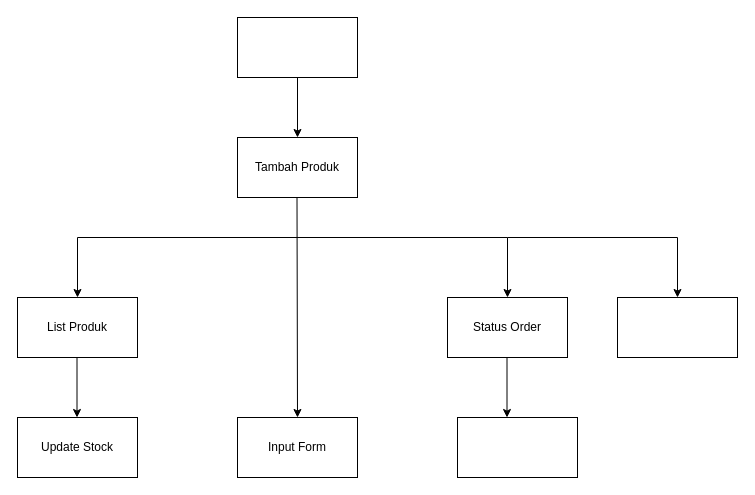
Some shapes in this 755 by 495 pixel diagram are drawn without their labels. The box of each missing label's shape, as (x1, y1, x2, y2) in pixels:
Detail Order: (456, 416, 578, 478)
Login: (236, 16, 358, 78)
Logout: (616, 296, 738, 358)
